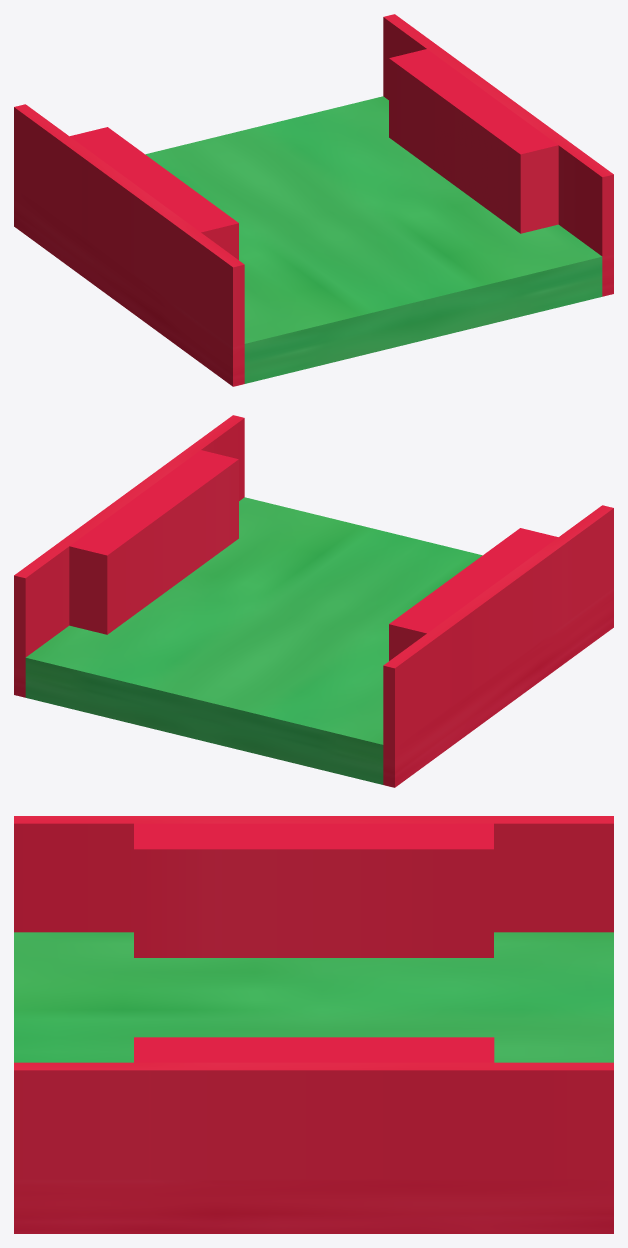
Rendered from SimpleFence_lvl1.fbx.
The picture shows the model from 3 angles, top to bottom: view 1: azimuth 30°, elevation 25°; view 2: azimuth 150°, elevation 25°; view 3: azimuth 270°, elevation 25°; orthographic projection. The views are drawn at different scales.
Parts seen in each view (by area): view 1: SimpleFence_lvl1, Fence; view 2: SimpleFence_lvl1, Fence; view 3: Fence, SimpleFence_lvl1.
Boxes of the visible parts, left/top/right/bottom form: SimpleFence_lvl1: left=145, top=96, right=602, bottom=383; Fence: left=14, top=14, right=613, bottom=386; SimpleFence_lvl1: left=25, top=497, right=482, bottom=784; Fence: left=14, top=415, right=613, bottom=787; Fence: left=14, top=816, right=613, bottom=1233; SimpleFence_lvl1: left=14, top=932, right=613, bottom=1062.
Size of the model in its own units: 100 by 30.07 by 99.98.
